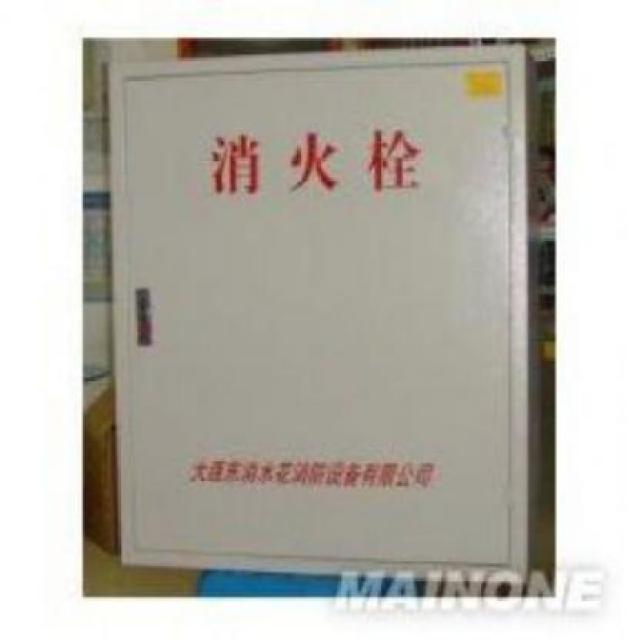firehydrant: (103, 39, 535, 582)
